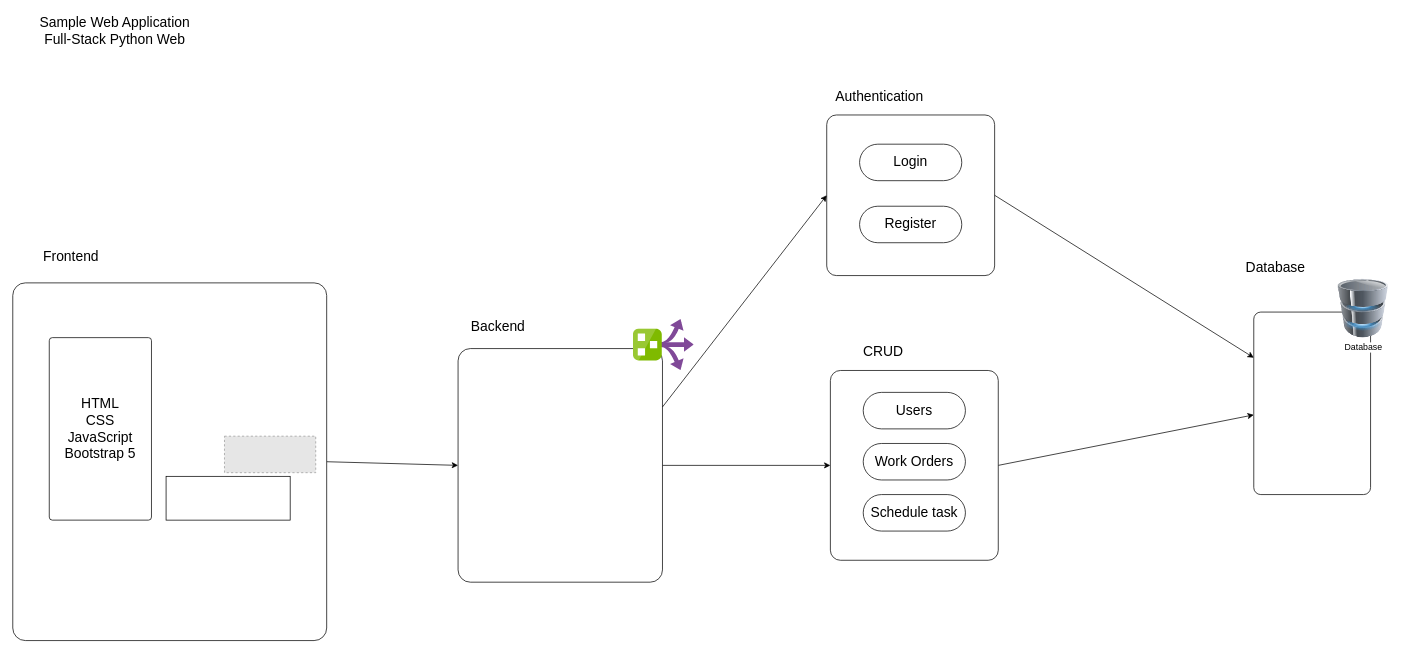
The diagram is 1405 pixels wide and 653 high, and some of its shapes have lost their labels. Grey dashed boxes stand in for pictures. The centre of each missing label's shape, as x and y in pixels:
"Jinja2 Template" belongs at [227,498].
"MySQL" belongs at [1312,403].
"Python Flask" belongs at [559,465].
"Routers" belongs at [663,344].
